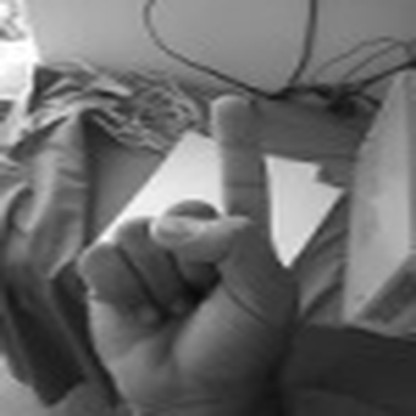d: (76, 87, 296, 416)
